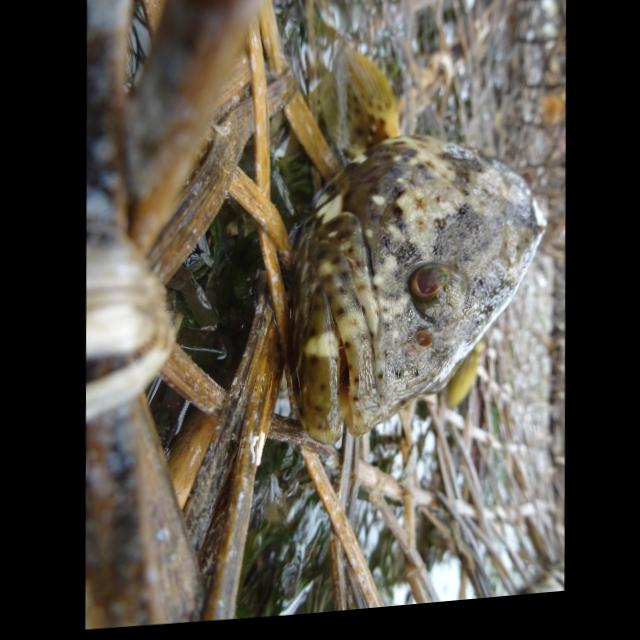Groupers: (279, 27, 564, 462)
